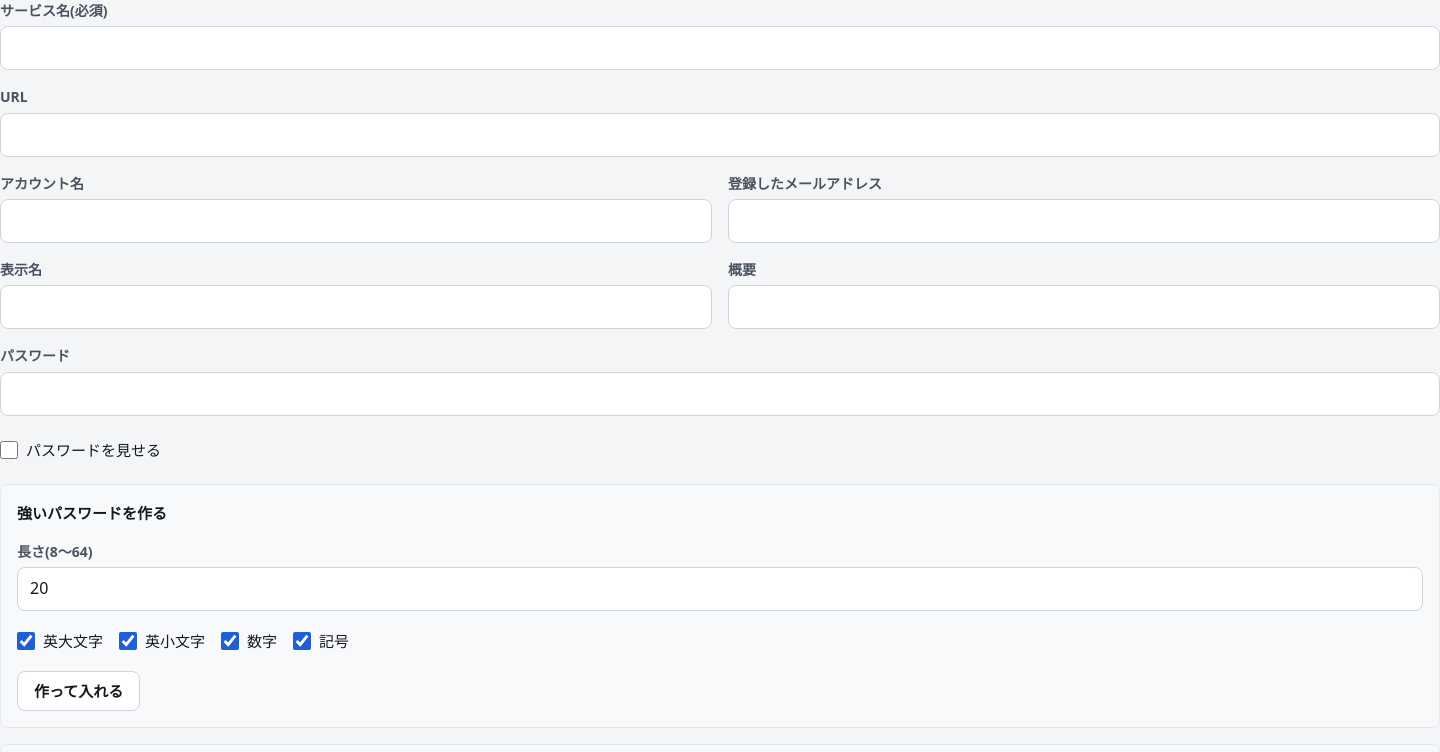
it: 新規登録 › http・https 以外の URL は、渡さずに知らせる
In the field labelled "サービス名(必須)": (720, 48) top-left (0, 26), bottom-right (1439, 70), type "ネット銀行"
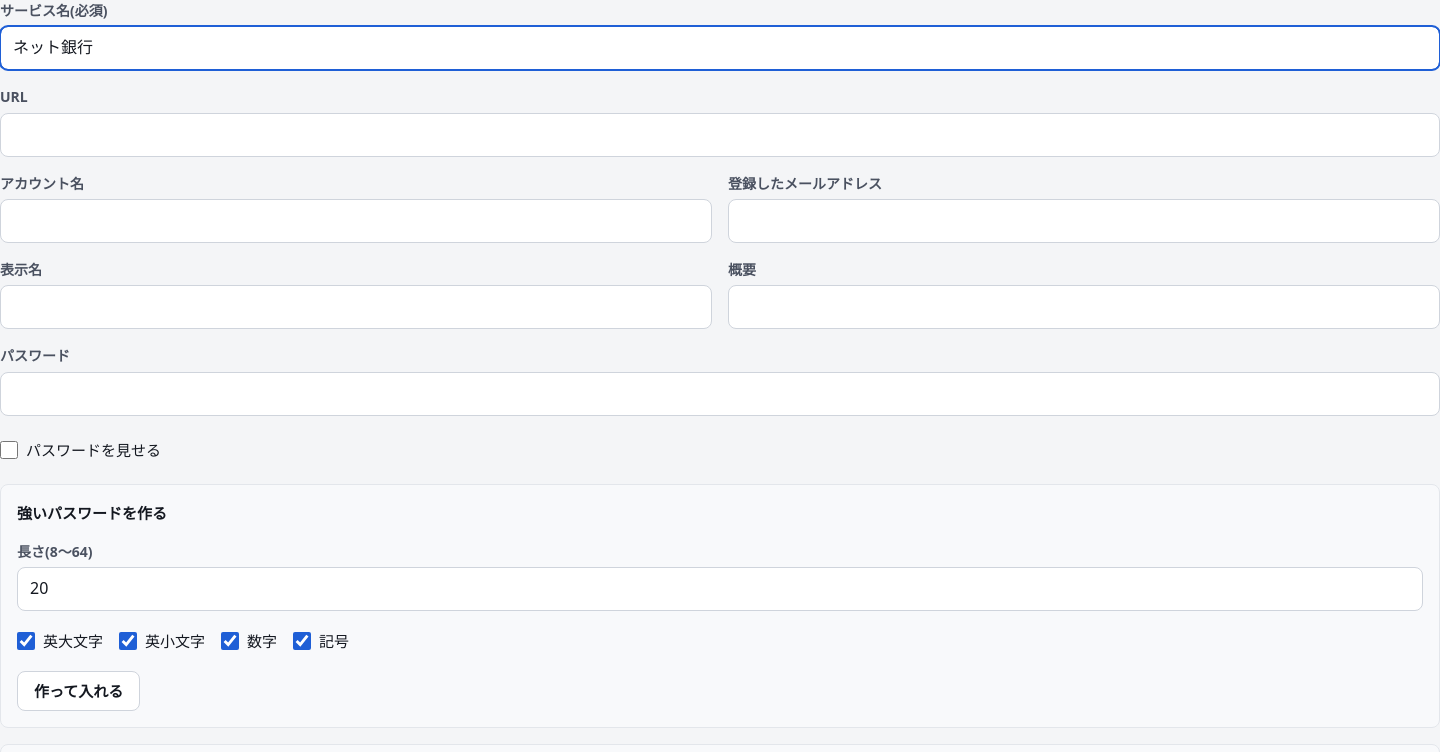
In the field labelled "URL": (720, 135) top-left (0, 113), bottom-right (1439, 157), type "javascript:alert(1)"
(page scrolled)
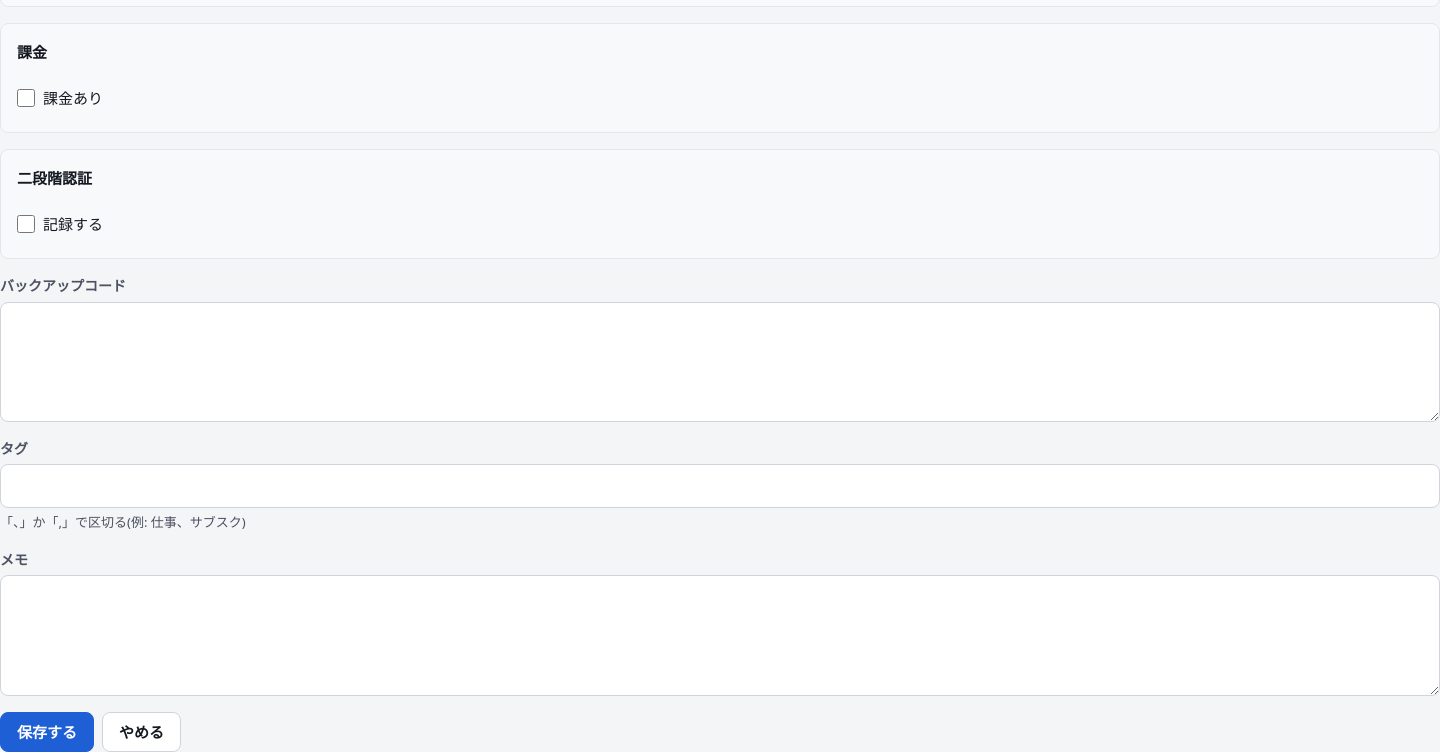
Click the button "保存する": (47, 732) top-left (0, 712), bottom-right (94, 751)
(page scrolled)
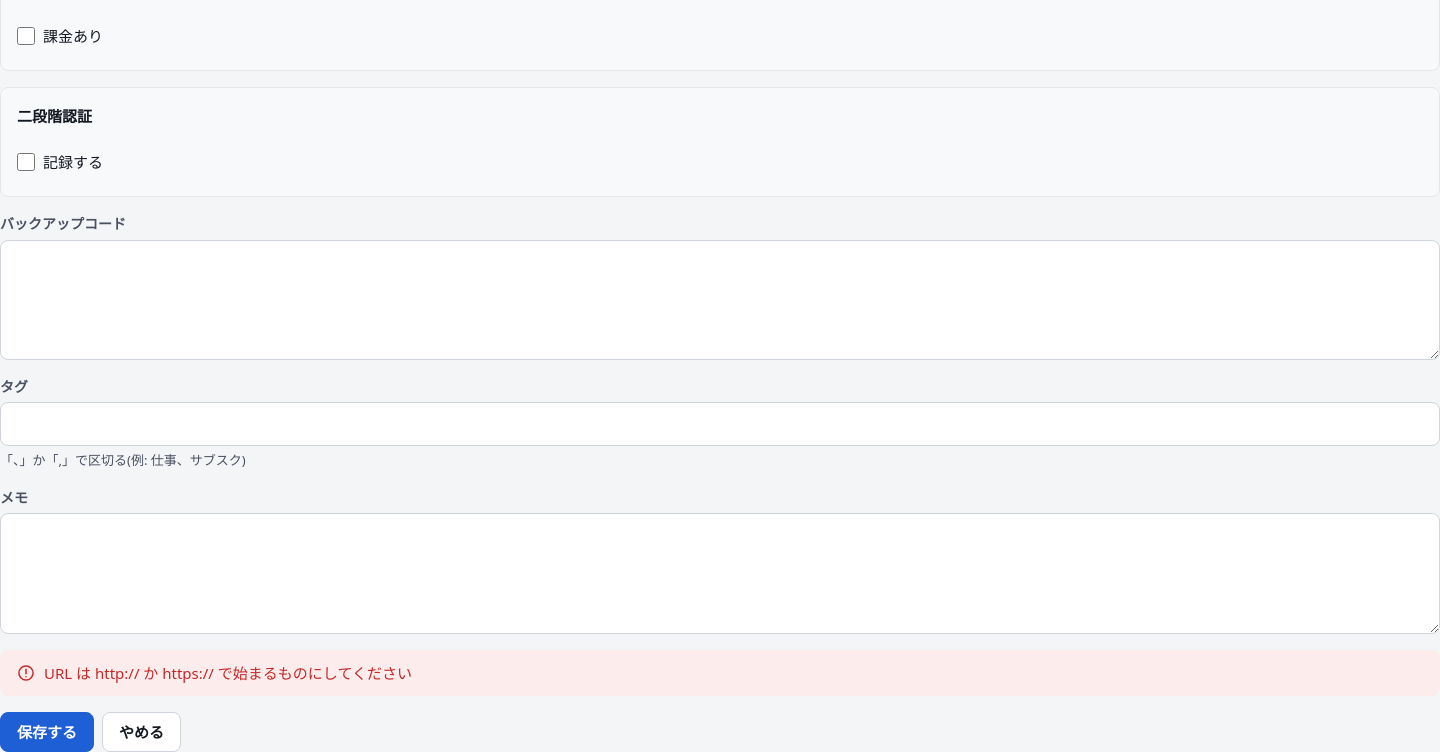
Now the message shows "http:// か https://", box top-left (44, 663), bottom-right (412, 683)
